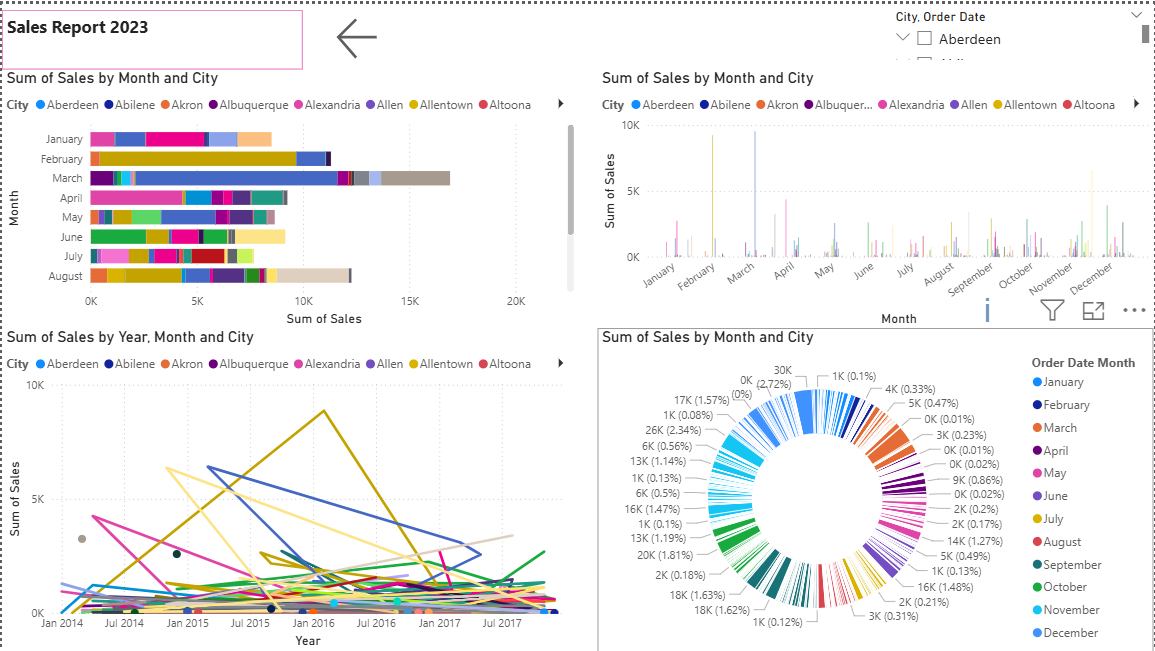

What the dashboard file says about the page in this screenshot:
{"tool":"powerbi","page":{"name":"Page 2","canvas":[1280,720],"ordinal":1},"visuals":[{"type":"barChart","fields":{"Category":["Orders.Order Date.Variation.Date Hierarchy.Month"],"Y":["Sum(Orders.Sales)"],"Series":["Orders.City"]},"box":[0,70.9,640.5,289.7],"z":0},{"type":"lineChart","fields":{"Category":["Orders.Order Date.Variation.Date Hierarchy.Year","Orders.Order Date.Variation.Date Hierarchy.Month"],"Y":["Sum(Orders.Sales)"],"Series":["Orders.City"]},"box":[0,360.6,640.5,359.4],"z":1000},{"type":"clusteredColumnChart","fields":{"Category":["Orders.Order Date.Variation.Date Hierarchy.Month"],"Y":["Sum(Orders.Sales)"],"Series":["Orders.City"]},"box":[661.3,70.9,618.5,289.7],"z":2000},{"type":"donutChart","fields":{"Category":["Orders.Order Date.Variation.Date Hierarchy.Month"],"Y":["Sum(Orders.Sales)"],"Series":["Orders.City"]},"box":[661.3,360.6,618.5,359.4],"z":3000},{"type":"slicer","fields":{"Values":["Orders.City","Orders.Order Date"]},"box":[980.4,0,299.5,66],"z":4000},{"type":"textbox","box":[0,6.1,333.7,66],"z":5000},{"type":"actionButton","box":[366.6,9.6,91.7,56.7],"z":6000}]}

Visuals, with their boxes on the page's 1280x720 design canvas (x1, y1, x2, y2). These are canvas units, not pixel positions in the 1155x651 screenshot, which may show the page scaled, cropped or inside an application window:
barChart - Orders.Order Date.Variation.Date Hierarchy.Month x Sum(Orders.Sales): (0,71,640,361)
lineChart - Orders.Order Date.Variation.Date Hierarchy.Year x Orders.Order Date.Variation.Date Hierarchy.Month: (0,361,640,720)
clusteredColumnChart - Orders.Order Date.Variation.Date Hierarchy.Month x Sum(Orders.Sales): (661,71,1280,361)
donutChart - Orders.Order Date.Variation.Date Hierarchy.Month x Sum(Orders.Sales): (661,361,1280,720)
slicer - Orders.City x Orders.Order Date: (980,0,1280,66)
textbox: (0,6,334,72)
actionButton: (367,10,458,66)
